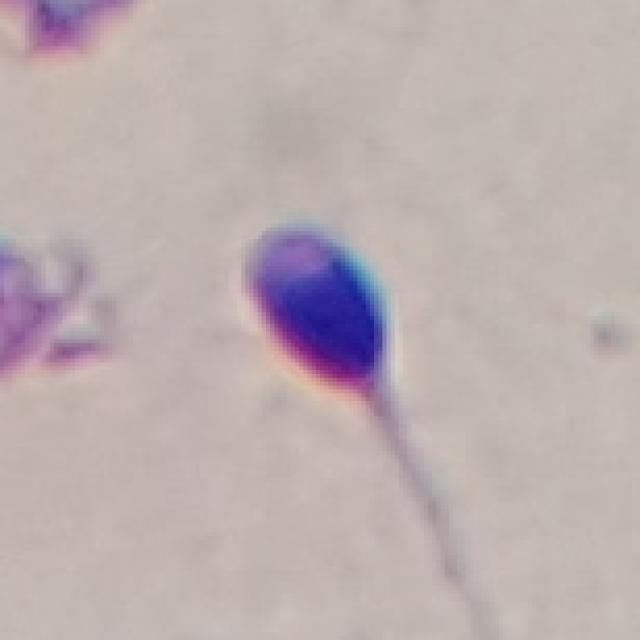normal sperm: (243, 222, 422, 473)
